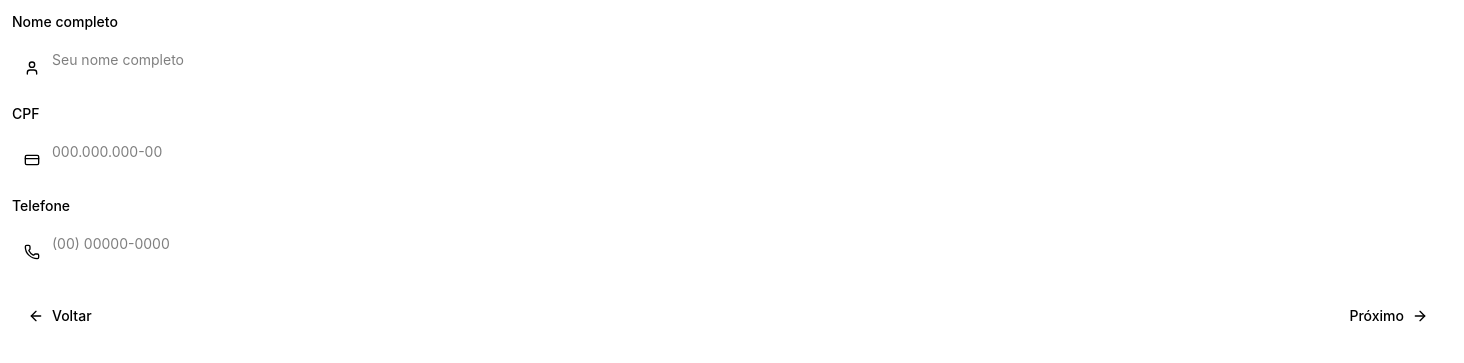
Test case: StepPersonalData › CPF async status icons › shows warning when API is unavailable (exists=null)
The width and height of the screenshot is (1464, 363).
Type "52998224725" into the field labelled "CPF".
click(732, 152); type("52998224725")  # box [12, 132, 1452, 172]
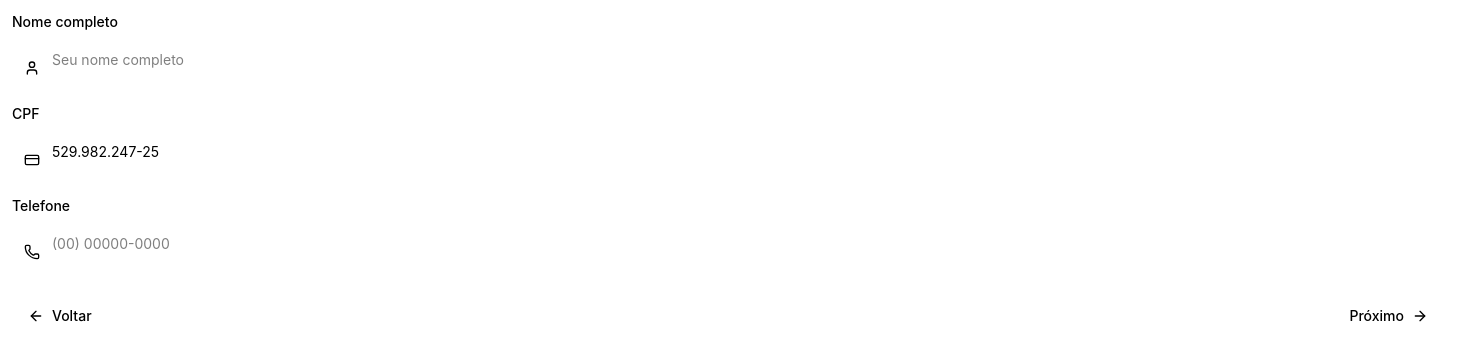
Press Tab
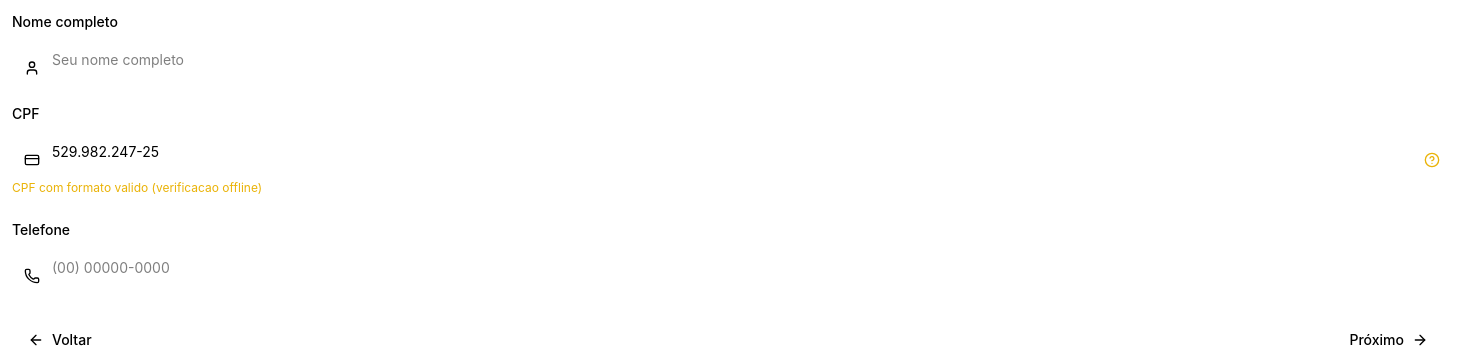
expect the text "CPF com formato valido (verificacao offline)" is shown: met, box [12, 180, 262, 195]
